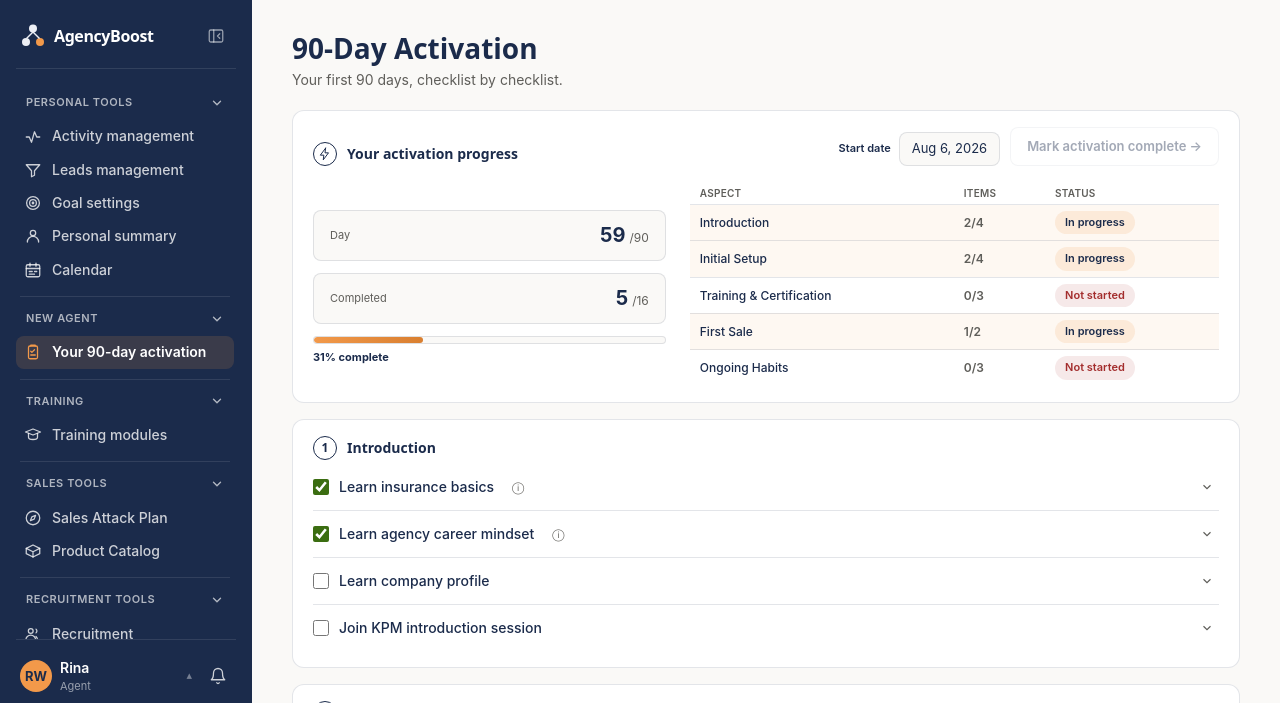
Test case: /activation, the hire’s own 90-Day Activation (P13-T4) › P13-T4 AC-3 a manual row: its box named by the item, and the chevron opening the hire’s own note and date
This screenshot has width=1280, height=703.
Expected: the checkbox labelled "Learn insurance basics" is checked, [313,479,329,495]
Click the button named "Show note and date" in the row of "Learn insurance basics" at (1207,487), box [1195,475,1219,499]
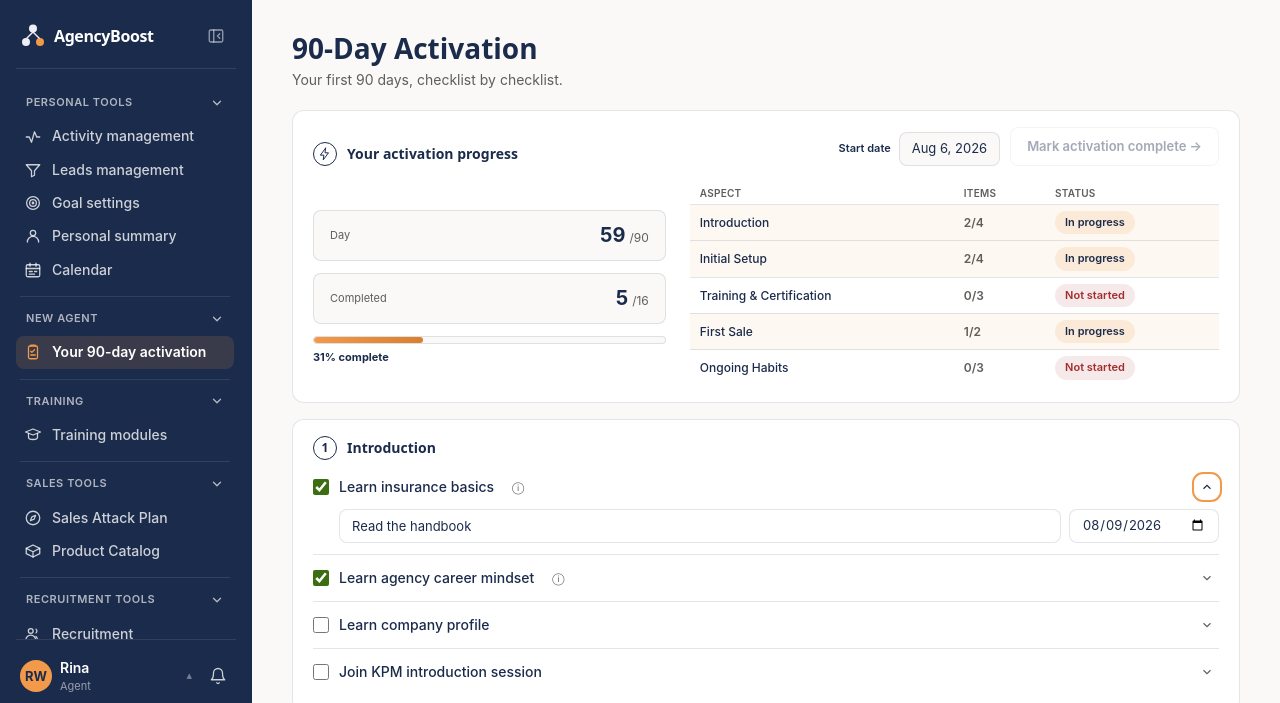
Now the button named "Show note and date" in the row of "Learn insurance basics" is expanded
Now the field named "Note (optional) — Learn insurance basics" holds "Read the handbook", box [339,509,1061,543]
Now the date field named "Date — Learn insurance basics" holds "2026-08-09", box [1069,509,1219,543]
Click the button named "Show note and date" in the row of "Learn insurance basics" at (1207,487), box [1195,475,1219,499]
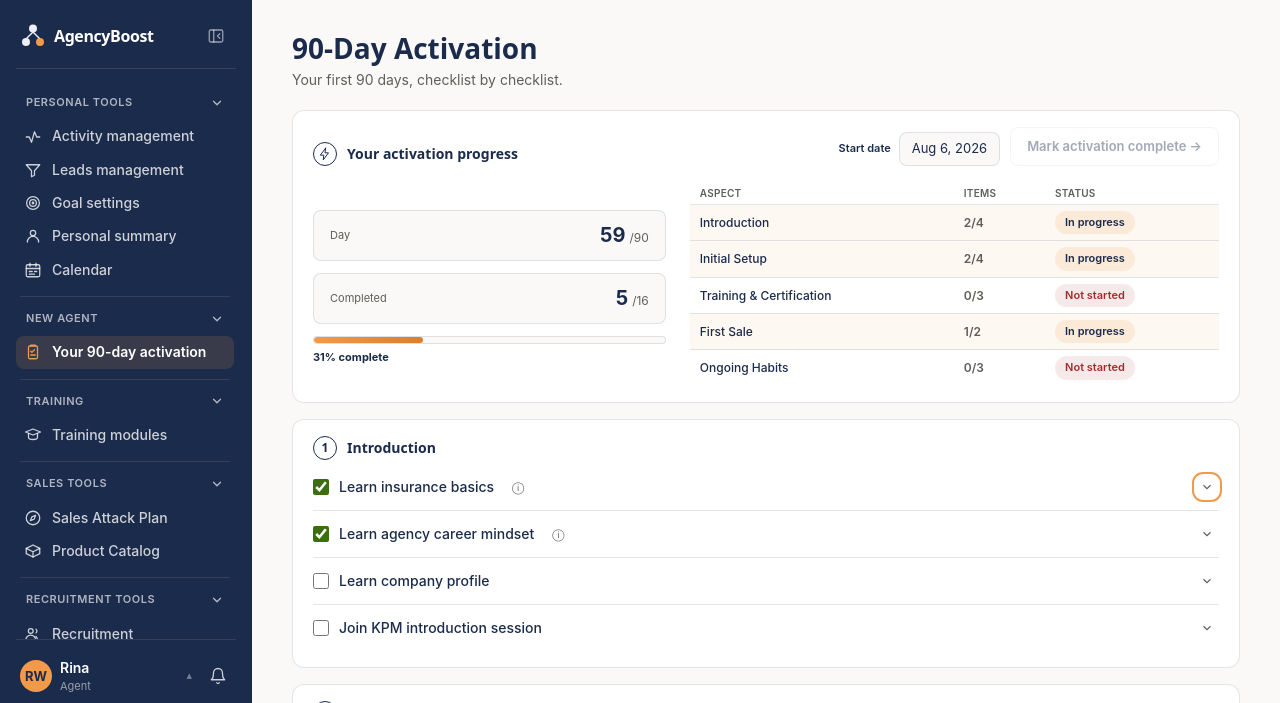
Now the button named "Show note and date" in the row of "Learn insurance basics" is collapsed, box [1195,475,1219,499]
